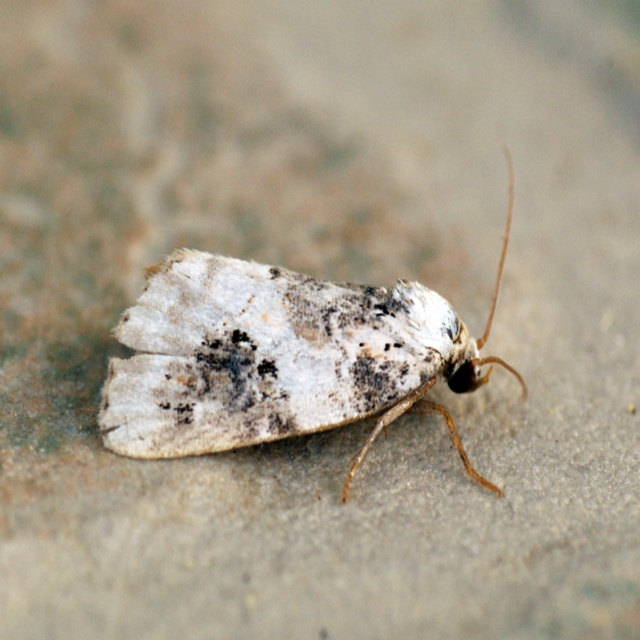Moths and butterflies: (96, 142, 529, 513)
